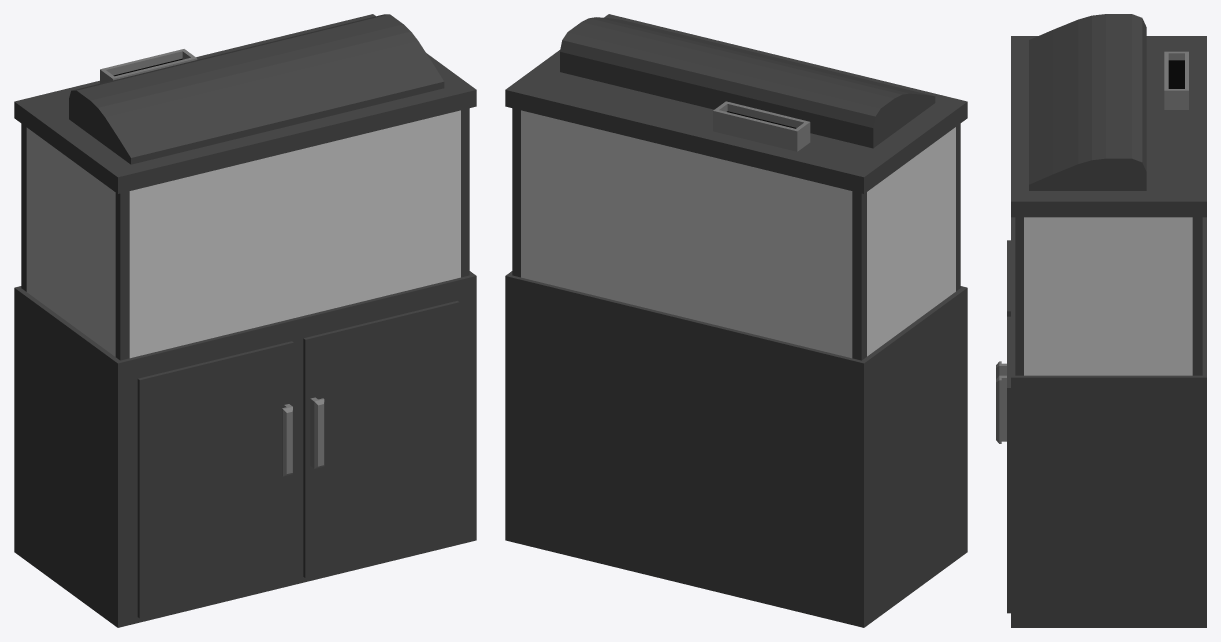
File: Int_Aquarium01.fbx
3 renders of one model, left to right at view 1: azimuth 30°, elevation 25°; view 2: azimuth 150°, elevation 25°; view 3: azimuth 270°, elevation 25°, orthographic. The views are drawn at different scales.
Visible parts, largest first — view 1: Int_Aquarium01; view 2: Int_Aquarium01; view 3: Int_Aquarium01.
Part boxes in pixels (x1,y1,x2,y2): Int_Aquarium01: (14,14,476,627); Int_Aquarium01: (505,14,967,627); Int_Aquarium01: (996,14,1206,627).
Size of what is drawn, in the model's own units: 150 by 80.64 by 194.
